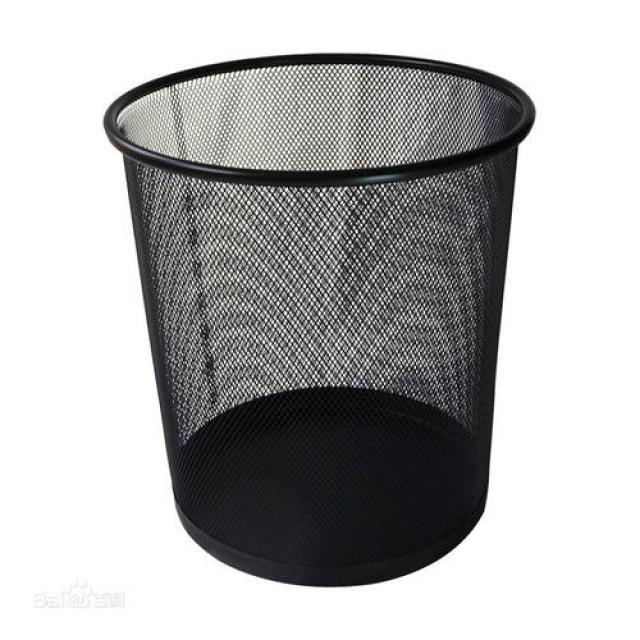dustbin: (100, 42, 541, 593)
